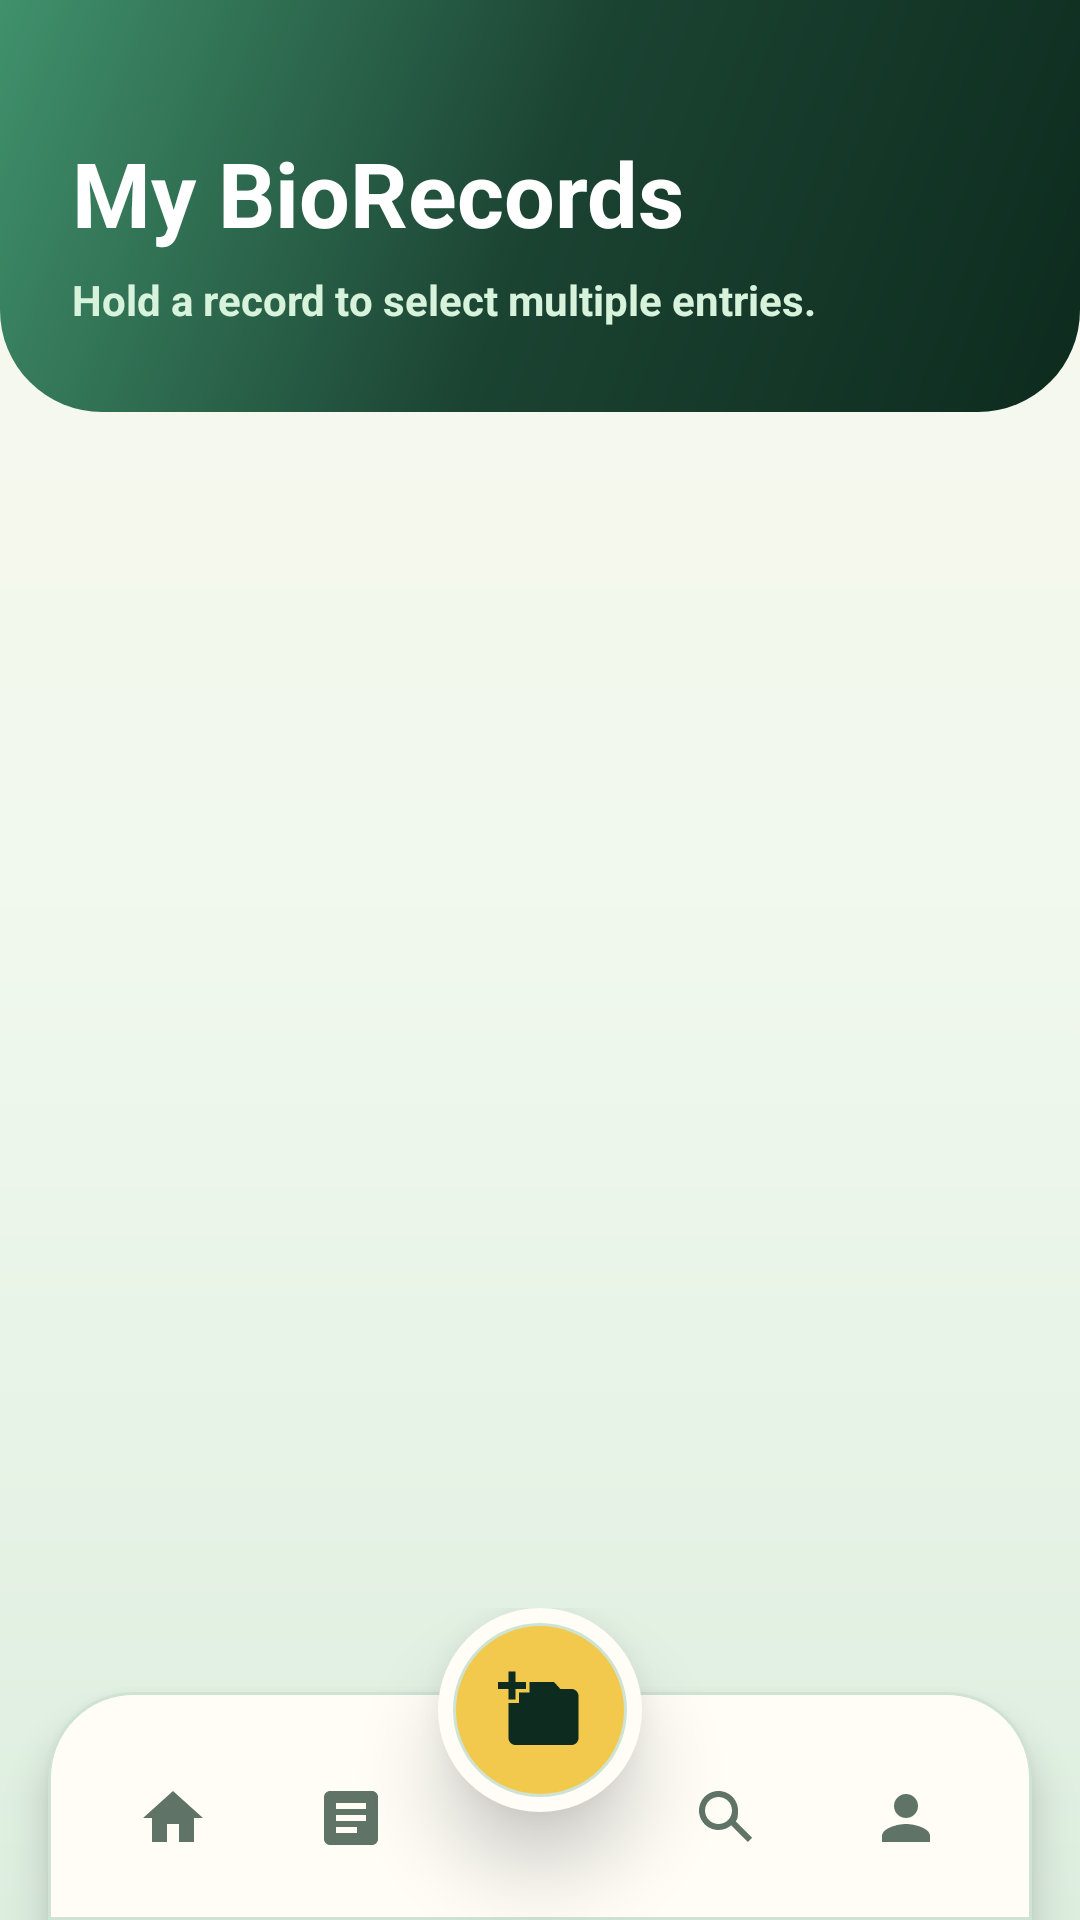

Named icons in this screenshot (1080px×1920px) and their centers, (x=x, y=y):
Home: (x=173, y=1816)
Profile: (x=906, y=1818)
Records: (x=351, y=1818)
Search: (x=725, y=1816)
